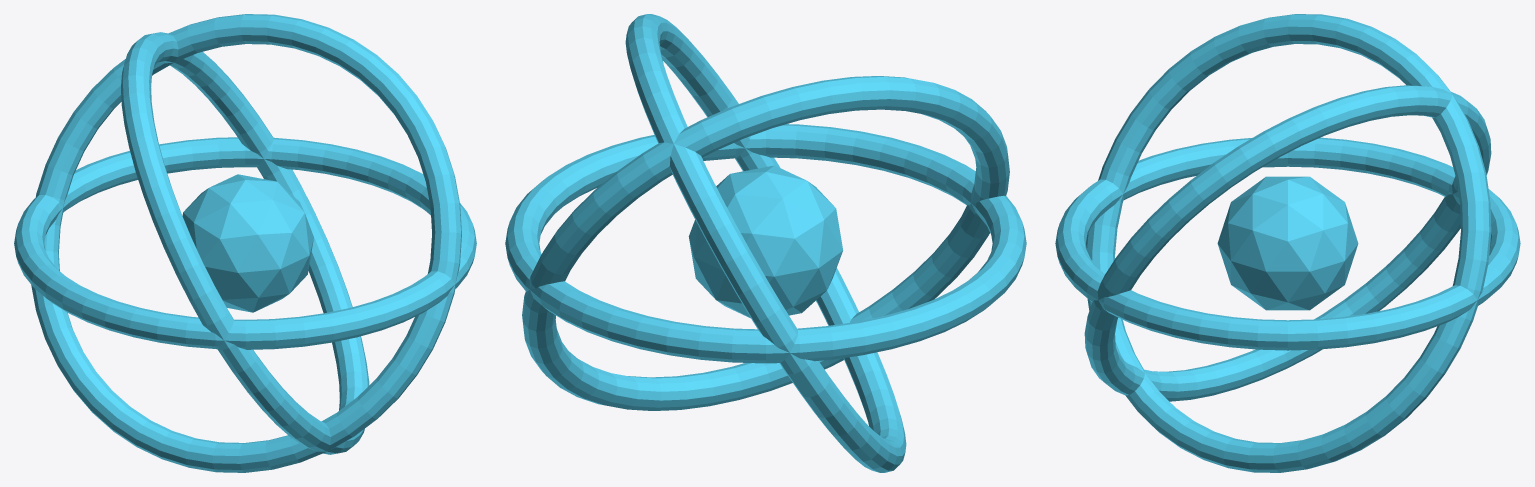
The model's file is react.gltf.
The picture shows the model from 3 angles, left to right: view 1: azimuth 30°, elevation 25°; view 2: azimuth 150°, elevation 25°; view 3: azimuth 270°, elevation 25°; orthographic projection. The views are drawn at different scales.
Parts seen in each view (by area): view 1: React; view 2: React; view 3: React.
Part boxes in pixels (x1,y1,x2,y2): React: (14, 14, 476, 472); React: (505, 14, 1026, 472); React: (1055, 14, 1520, 472).
Size of the model in its own units: 0.4965 by 0.434 by 0.4965.
